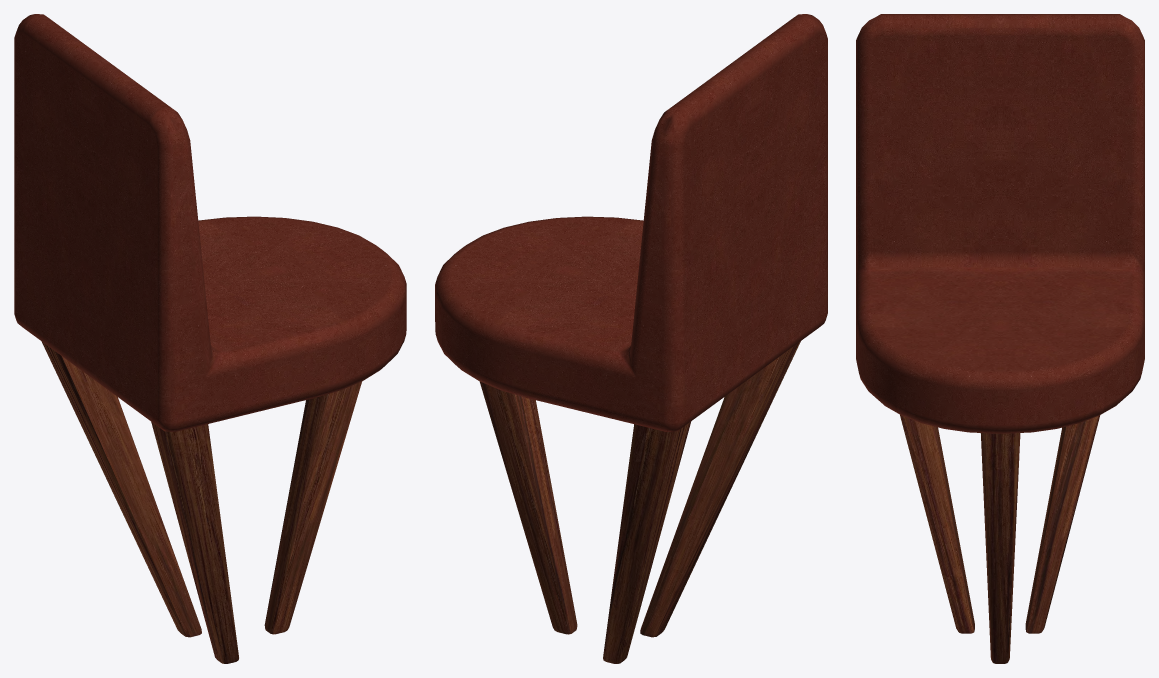
File: chair-transformed.glb
3 renders of one model, left to right at view 1: azimuth 30°, elevation 25°; view 2: azimuth 150°, elevation 25°; view 3: azimuth 270°, elevation 25°, orthographic. The views are drawn at different scales.
Parts seen in each view (by area): view 1: Cube, Cube.001; view 2: Cube, Cube.001; view 3: Cube, Cube.001.
Part boxes in pixels (box(x1,y1,x2,y2)): Cube: box(14, 14, 406, 431); Cube.001: box(41, 341, 361, 663); Cube: box(435, 14, 827, 431); Cube.001: box(479, 341, 800, 663); Cube: box(856, 14, 1144, 433); Cube.001: box(900, 415, 1100, 663).
Bounding box in the file's own units: 0.5834 × 1.14 × 0.5264.
2 materials, 2 textured.
